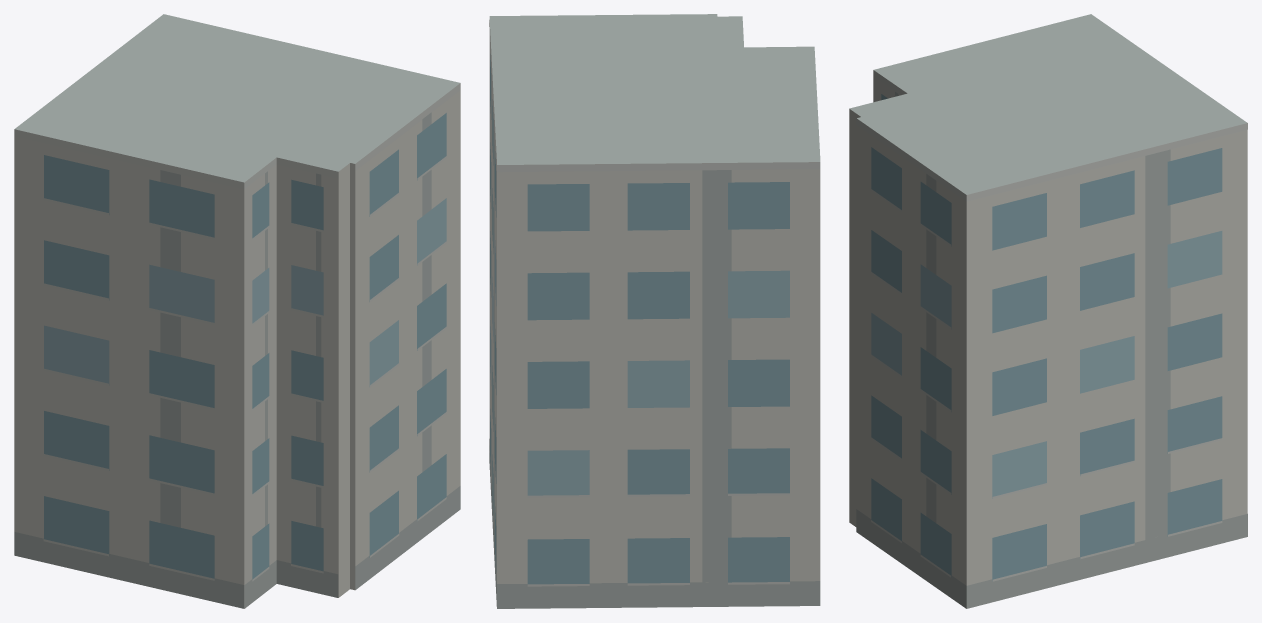
File: residential-b9e656cf-c3a7-42c4-83ce-8673439bb0c0.glb
3 renders of one model, left to right at view 1: azimuth 30°, elevation 25°; view 2: azimuth 150°, elevation 25°; view 3: azimuth 270°, elevation 25°, orthographic. The views are drawn at different scales.
Parts seen in each view (by area): view 1: residential-b9e656cf-c3a7-42c4-83ce-8673439bb0c0.tmp; view 2: residential-b9e656cf-c3a7-42c4-83ce-8673439bb0c0.tmp; view 3: residential-b9e656cf-c3a7-42c4-83ce-8673439bb0c0.tmp.
Boxes of the visible parts, left/top/right/bottom form: residential-b9e656cf-c3a7-42c4-83ce-8673439bb0c0.tmp: left=14, top=14, right=460, bottom=608; residential-b9e656cf-c3a7-42c4-83ce-8673439bb0c0.tmp: left=489, top=14, right=820, bottom=608; residential-b9e656cf-c3a7-42c4-83ce-8673439bb0c0.tmp: left=849, top=14, right=1247, bottom=608.
Size of the model in its own units: 14.17 by 15.1 by 13.19.
